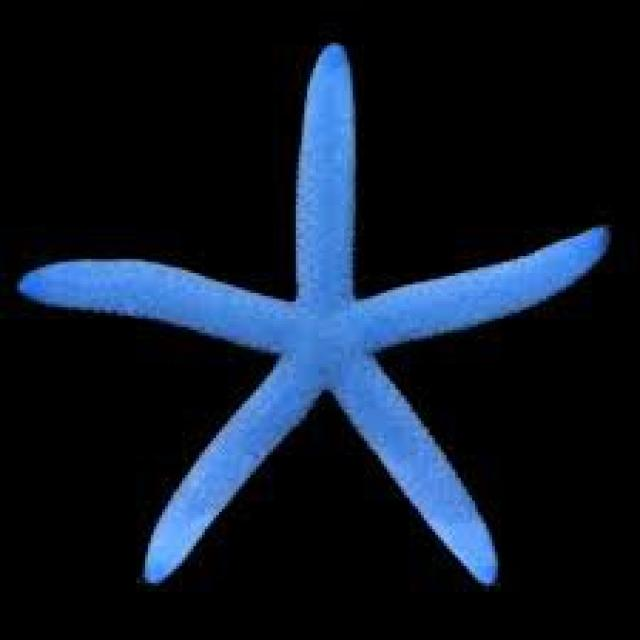starfish: (17, 46, 609, 583)
